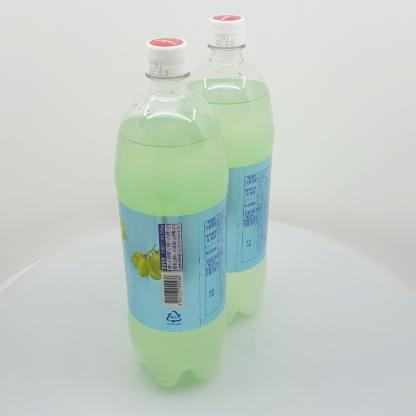---------------: (114, 37, 228, 387), (180, 15, 275, 324)
